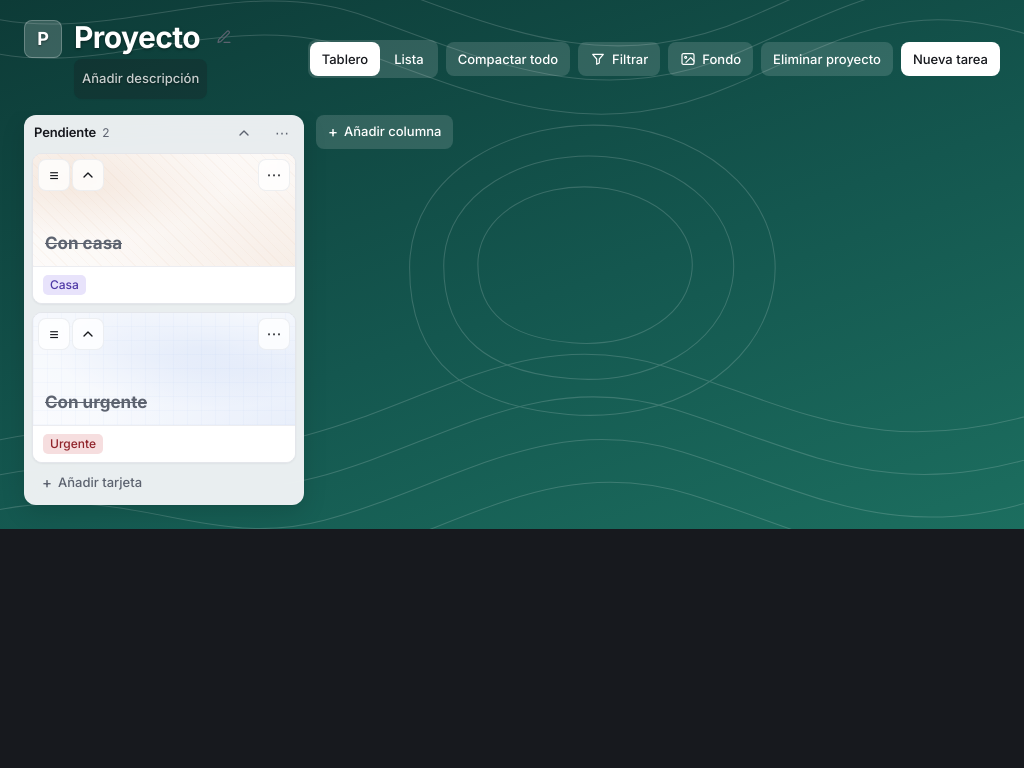
ProyectoDetalle › filtra las tarjetas por etiqueta y limpia el filtro
Expected: the text "Con casa" is shown, x1=45 y1=233 x2=122 y2=255
Expected: the text "Con urgente" is shown, x1=45 y1=392 x2=147 y2=414
Step 1. Click the button "Filtrar" → (619, 59), box x1=578 y1=42 x2=660 y2=76
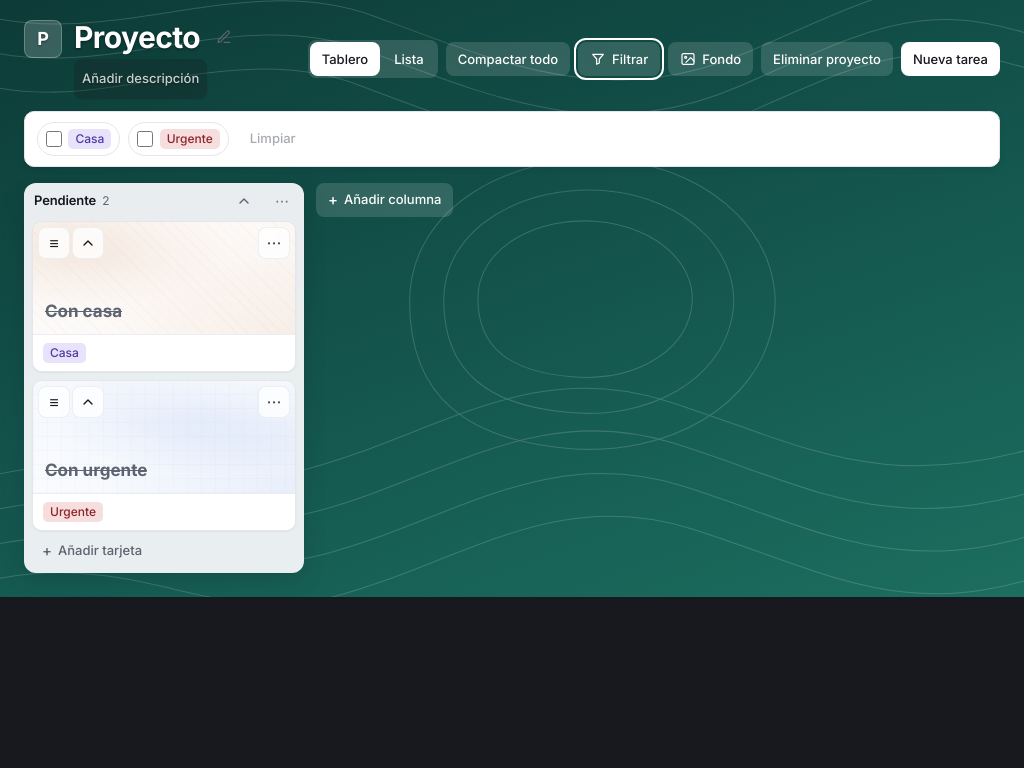
Step 2. Click the checkbox labelled "Casa" → (54, 138), box x1=46 y1=130 x2=62 y2=146
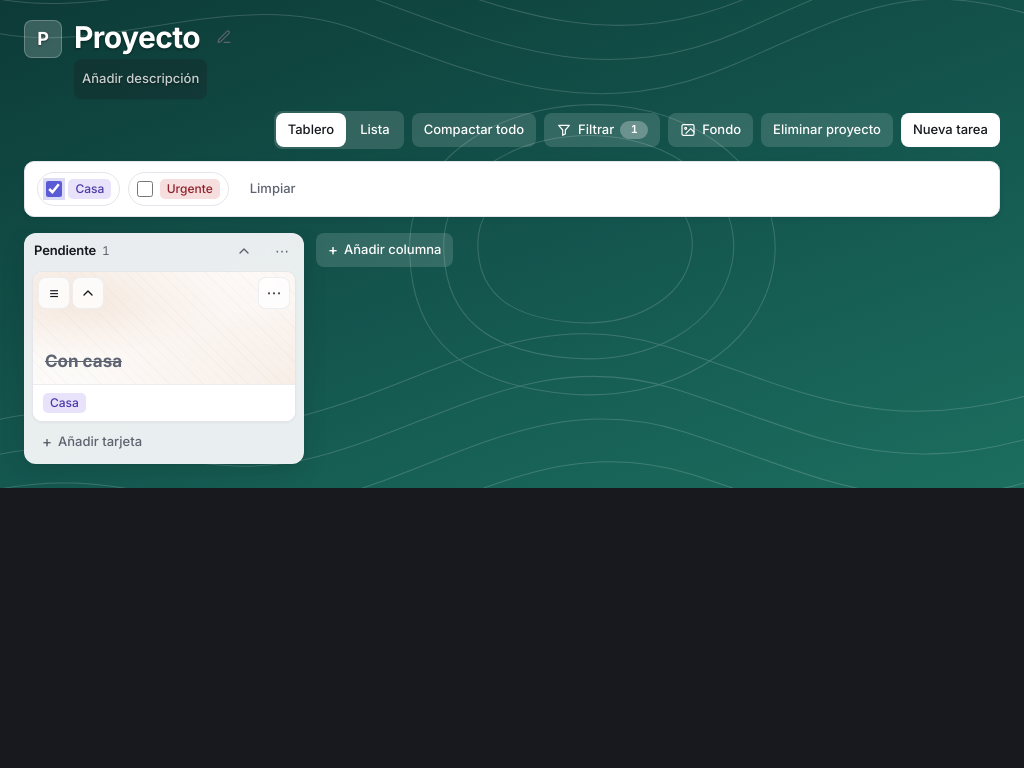
Expected: the text "Con casa" is shown, x1=45 y1=351 x2=122 y2=373
Result: the link "Con urgente" is gone
Result: the button "Filtrar 1" is shown at x1=544 y1=112 x2=660 y2=146
Step 3. Click the button "Limpiar" → (273, 188), box x1=241 y1=172 x2=305 y2=204
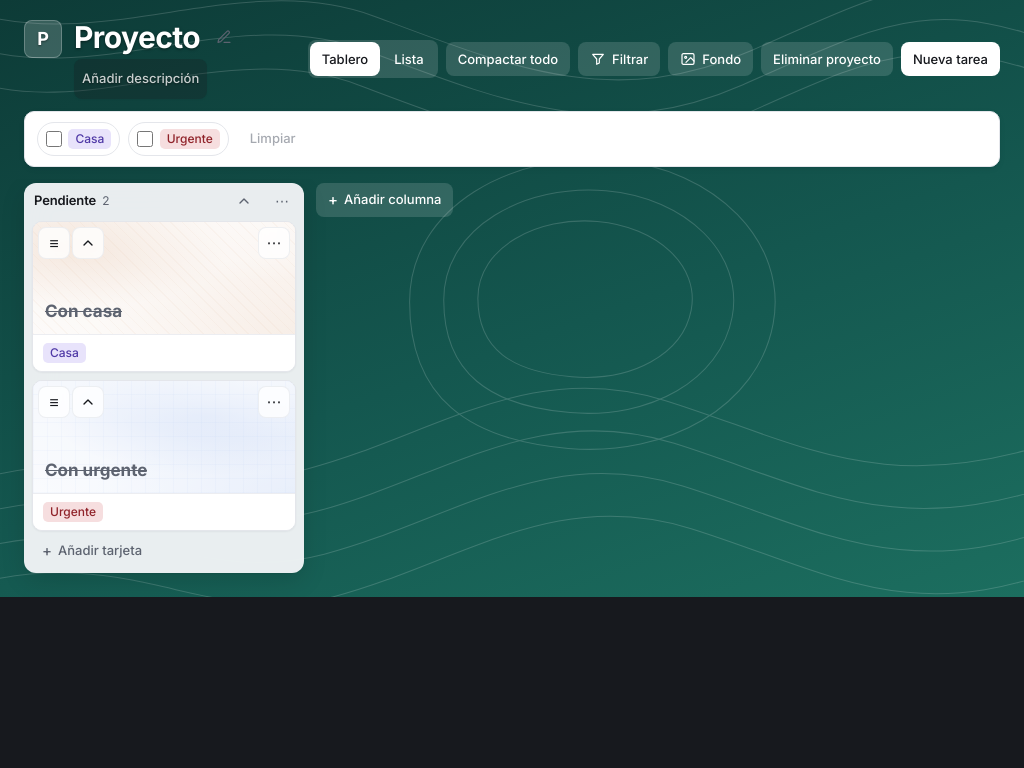
Result: the text "Con urgente" is shown at x1=45 y1=460 x2=147 y2=482
